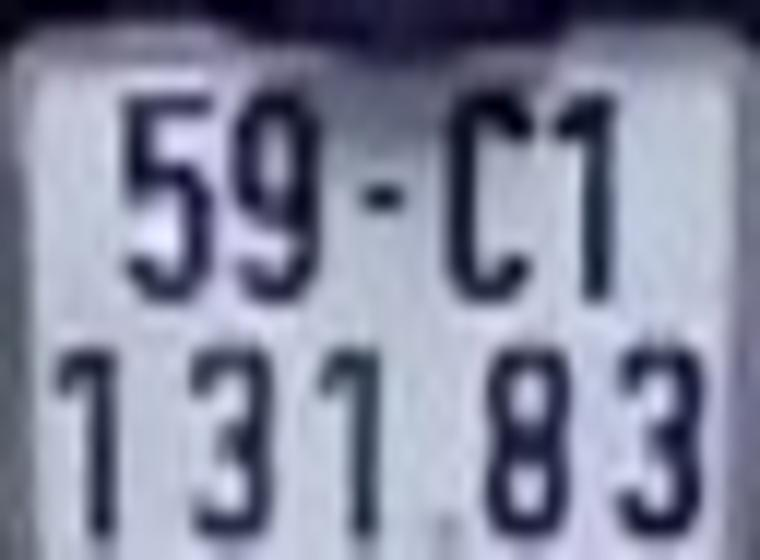-: (353, 177, 409, 216)
1: (311, 351, 392, 542), (553, 83, 620, 307), (52, 351, 122, 534)
3: (611, 345, 705, 541), (179, 340, 271, 535)
5: (119, 86, 207, 301)
8: (479, 346, 565, 540)
9: (231, 96, 319, 305)
C: (435, 88, 525, 305)
